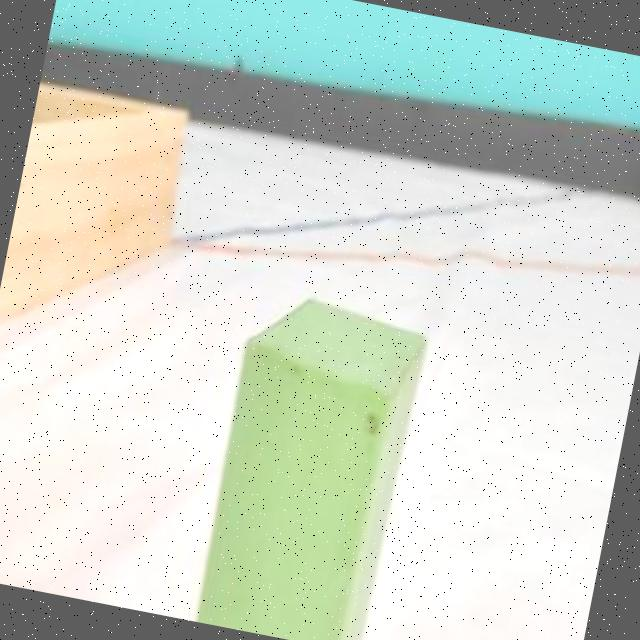greenbox: (190, 282, 436, 640)
